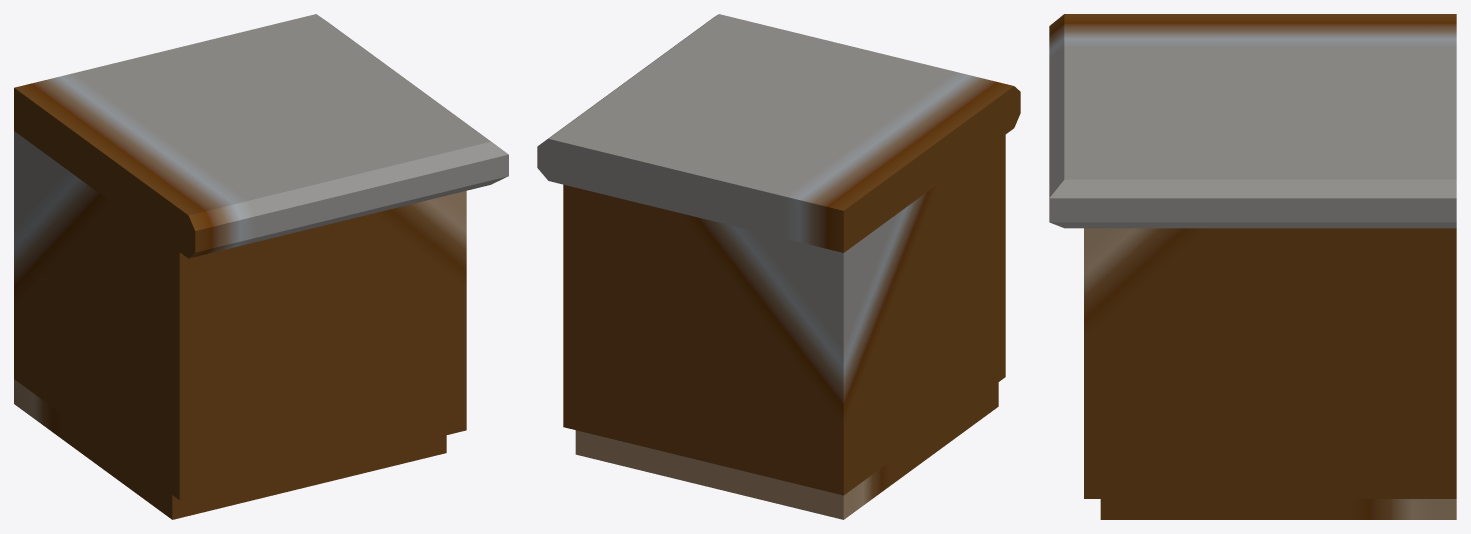
File: SM_Bench_Corner_Outer.fbx
The picture shows the model from 3 angles, left to right: view 1: azimuth 30°, elevation 25°; view 2: azimuth 150°, elevation 25°; view 3: azimuth 270°, elevation 25°; orthographic projection. The views are drawn at different scales.
Parts seen in each view (by area): view 1: SM_Bench_Corner_Outer; view 2: SM_Bench_Corner_Outer; view 3: SM_Bench_Corner_Outer.
Part boxes in pixels (left/top/right/bottom): SM_Bench_Corner_Outer: left=14, top=14, right=508, bottom=519; SM_Bench_Corner_Outer: left=537, top=14, right=1020, bottom=519; SM_Bench_Corner_Outer: left=1049, top=14, right=1456, bottom=519.
Bounding box in the file's own units: 1.04 × 1 × 1.04.
